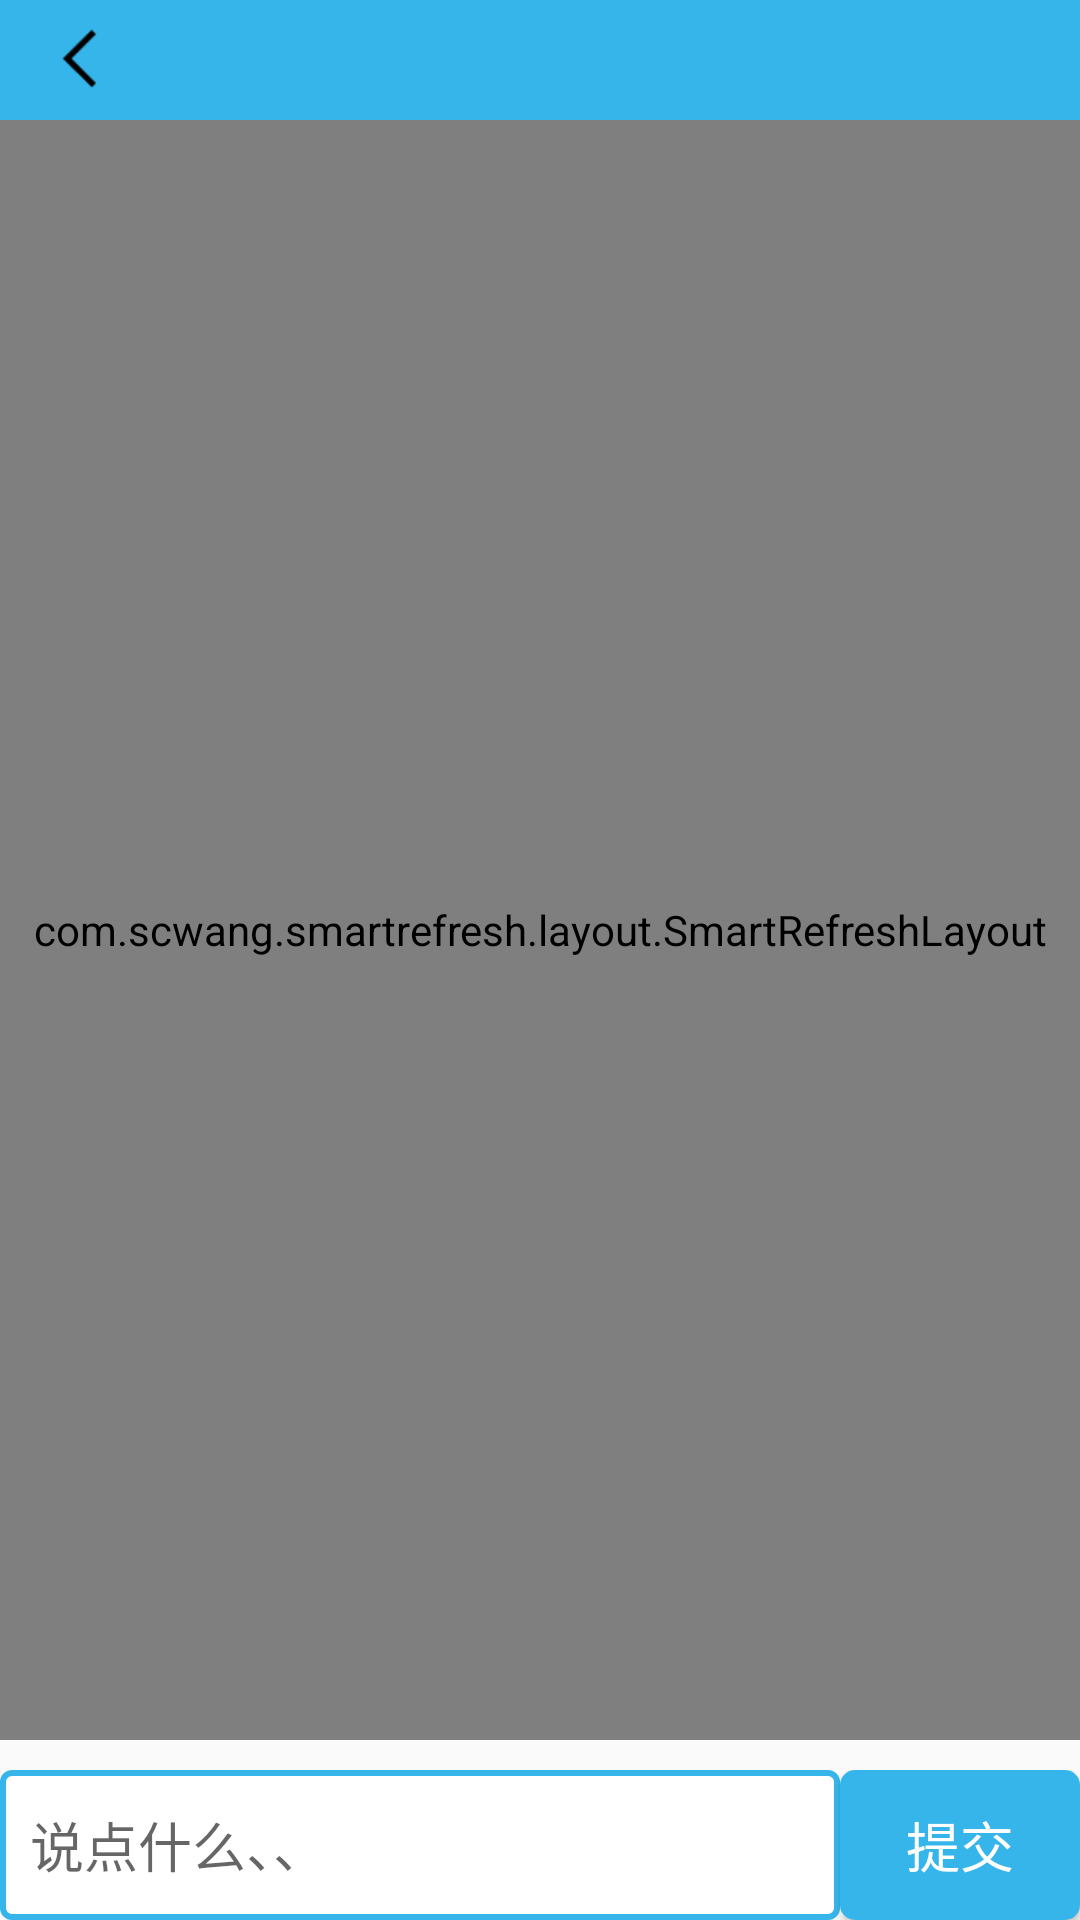

Named icons in this screenshot (1080w x 1920h) and their centers, [x,y]:
mine leftarrow: [79,58]
